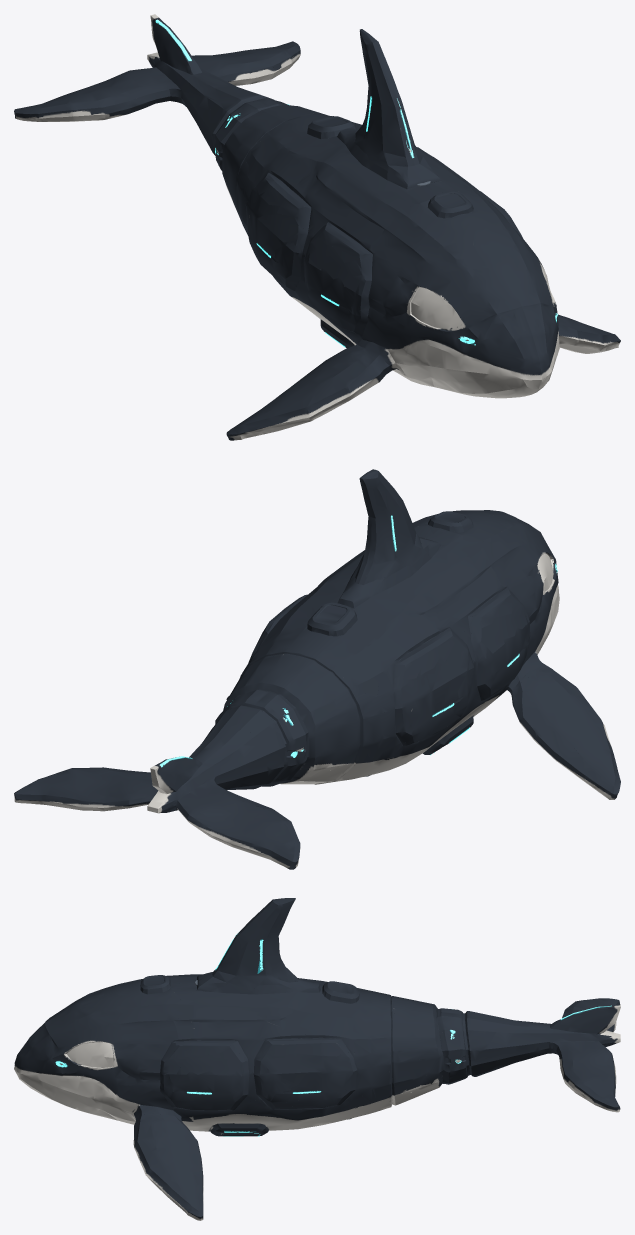
The model's file is orca_hull.glb.
3 renders of one model, top to bottom at view 1: azimuth 30°, elevation 25°; view 2: azimuth 150°, elevation 25°; view 3: azimuth 270°, elevation 25°, orthographic. The views are drawn at different scales.
Parts seen in each view (by area): view 1: orca_hull__panel_head, orca_hull__panel_spine, orca_hull__tail, orca_hull__pectoral_left, orca_hull__panel_tool_left, orca_hull__panel_workshop, orca_hull__dorsal, orca_hull__pectoral_right, orca_hull__panel_belly; view 2: orca_hull__panel_spine, orca_hull__tail, orca_hull__panel_workshop, orca_hull__pectoral_left, orca_hull__panel_tool_left, orca_hull__panel_head, orca_hull__dorsal, orca_hull__panel_belly; view 3: orca_hull__panel_head, orca_hull__panel_spine, orca_hull__pectoral_right, orca_hull__tail, orca_hull__panel_workshop, orca_hull__panel_tool_right, orca_hull__panel_belly, orca_hull__dorsal.
Boxes of the visible parts, box(x1,y1,x2,y2) form: orca_hull__panel_head: box(351, 189, 559, 398); orca_hull__panel_spine: box(244, 114, 516, 268); orca_hull__tail: box(14, 14, 300, 134); orca_hull__pectoral_left: box(226, 235, 380, 440); orca_hull__panel_tool_left: box(236, 157, 361, 292); orca_hull__panel_workshop: box(202, 88, 327, 219); orca_hull__dorsal: box(354, 29, 426, 175); orca_hull__pectoral_right: box(557, 314, 620, 353); orca_hull__panel_belly: box(242, 223, 361, 348); orca_hull__panel_spine: box(245, 526, 518, 697); orca_hull__tail: box(14, 722, 300, 869); orca_hull__panel_workshop: box(206, 654, 359, 789); orca_hull__pectoral_left: box(454, 613, 620, 799); orca_hull__panel_tool_left: box(351, 602, 525, 762); orca_hull__panel_head: box(412, 510, 559, 692); orca_hull__dorsal: box(353, 469, 429, 584); orca_hull__panel_belly: box(262, 668, 521, 786); orca_hull__panel_head: box(14, 975, 185, 1124); orca_hull__panel_spine: box(170, 969, 394, 1059); orca_hull__pectoral_right: box(133, 1067, 292, 1220); orca_hull__tail: box(484, 998, 620, 1112); orca_hull__panel_workshop: box(392, 996, 502, 1095); orca_hull__panel_tool_right: box(174, 1040, 393, 1107); orca_hull__panel_belly: box(174, 1077, 467, 1136); orca_hull__dorsal: box(214, 898, 298, 990).
Size of the model in its own units: 13.93 by 10.87 by 24.
Materials: 4 (1 with a texture image).
